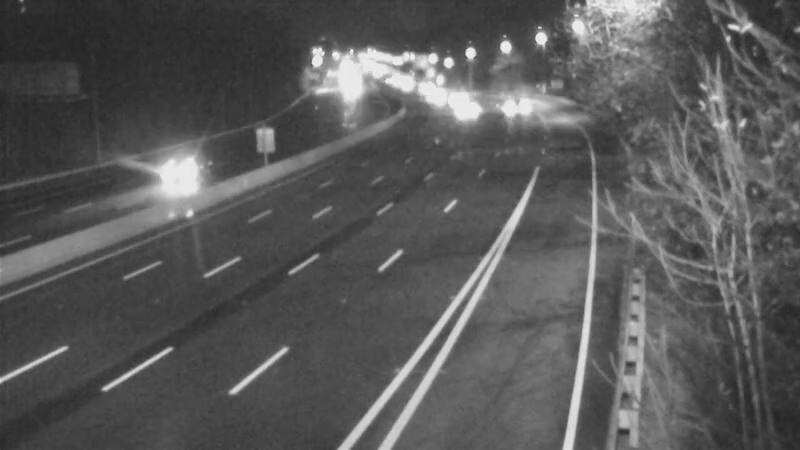vehicle: (136, 136, 216, 216), (403, 73, 453, 123), (428, 72, 478, 122), (442, 89, 492, 139), (485, 82, 535, 132)
